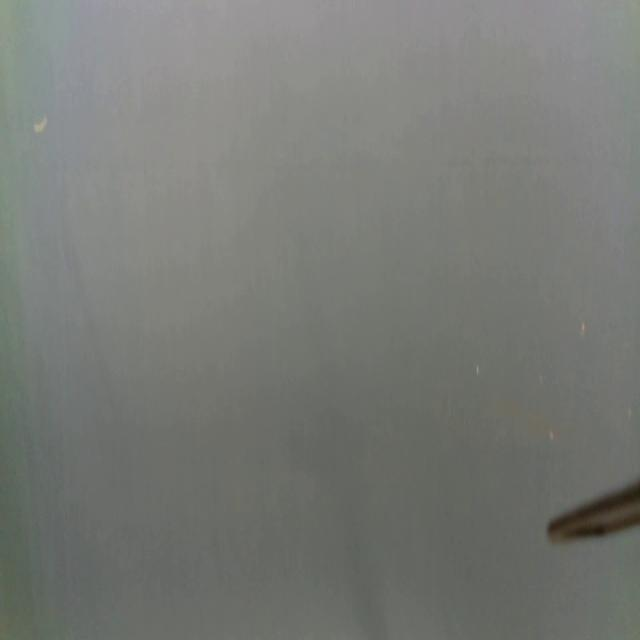hole: (33, 116, 48, 136), (579, 322, 589, 338), (549, 428, 557, 444), (475, 362, 481, 378)
